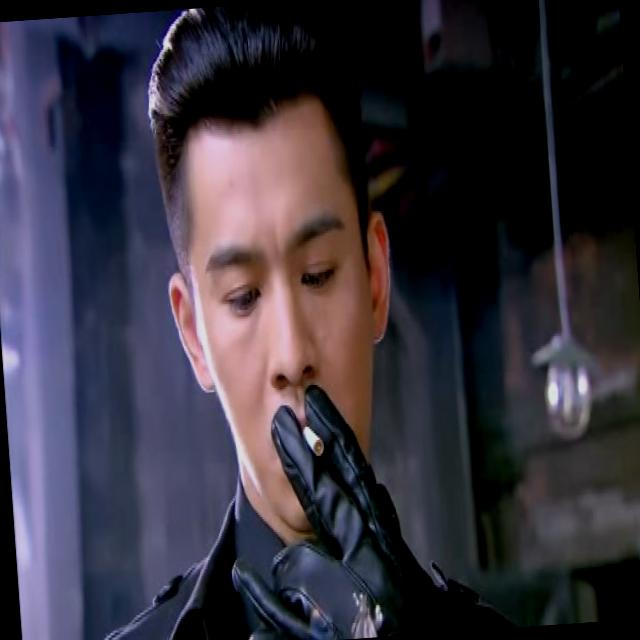cigarette: (301, 422, 325, 462)
